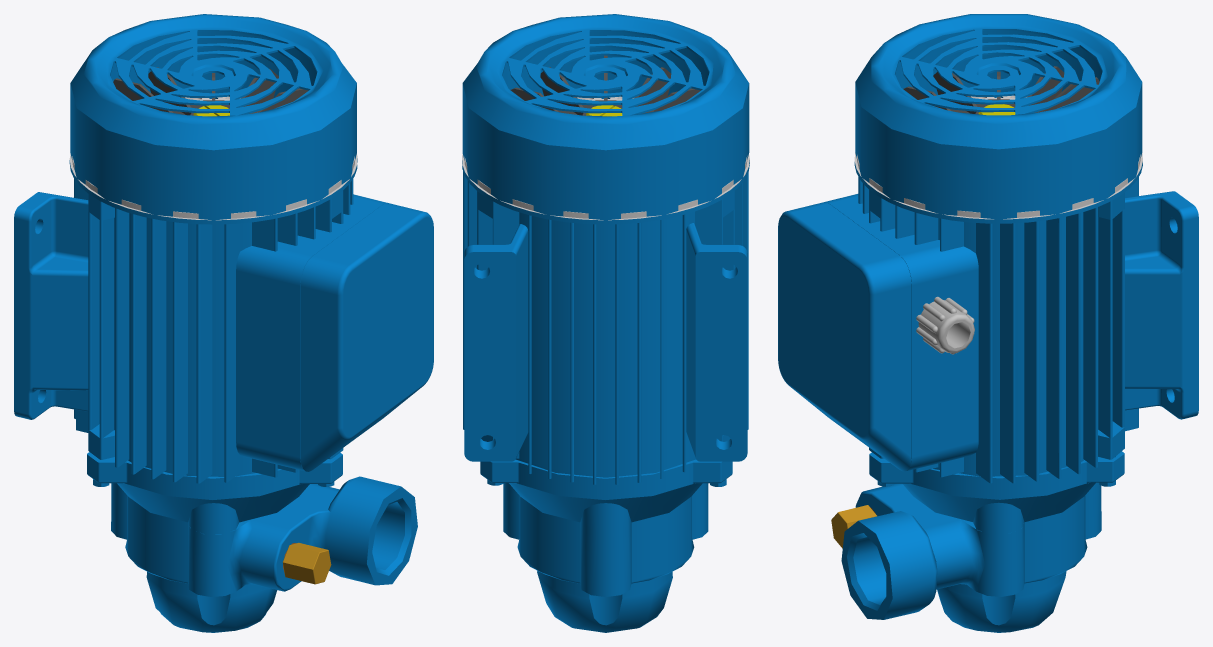
The model's file is KSB_pump_Hydrobloc_P-500_05CV_3PH.obj.
3 views of the same model, side by side, from view 1: azimuth 30°, elevation 25°; view 2: azimuth 150°, elevation 25°; view 3: azimuth 270°, elevation 25° (orthographic).
Parts seen in each view (by area): view 1: Solid1, Solid1:1, Solid1:4, Solid1:3, Solid1:5, Solid1:7; view 2: Solid1, Solid1:1, Solid1:4, Solid1:3, Solid1:5; view 3: Solid1, Solid1:1, Solid1:4, Solid1:3, Solid1:2, Solid1:5, Solid1:7.
Part boxes in pixels (<box>): Solid1: <box>14,96,433,483</box>; Solid1:1: <box>70,14,356,220</box>; Solid1:4: <box>111,476,417,632</box>; Solid1:3: <box>87,452,342,534</box>; Solid1:5: <box>113,67,308,115</box>; Solid1:7: <box>282,542,331,584</box>; Solid1: <box>462,96,749,484</box>; Solid1:1: <box>462,14,749,220</box>; Solid1:4: <box>503,483,708,632</box>; Solid1:3: <box>480,457,732,534</box>; Solid1:5: <box>510,55,700,115</box>; Solid1: <box>778,95,1198,483</box>; Solid1:1: <box>855,14,1142,219</box>; Solid1:4: <box>841,482,1101,632</box>; Solid1:3: <box>869,451,1124,534</box>; Solid1:2: <box>916,296,974,354</box>; Solid1:5: <box>903,66,1099,114</box>; Solid1:7: <box>831,505,876,548</box>.
Bounding box in the file's own units: 164 × 254 × 178.
